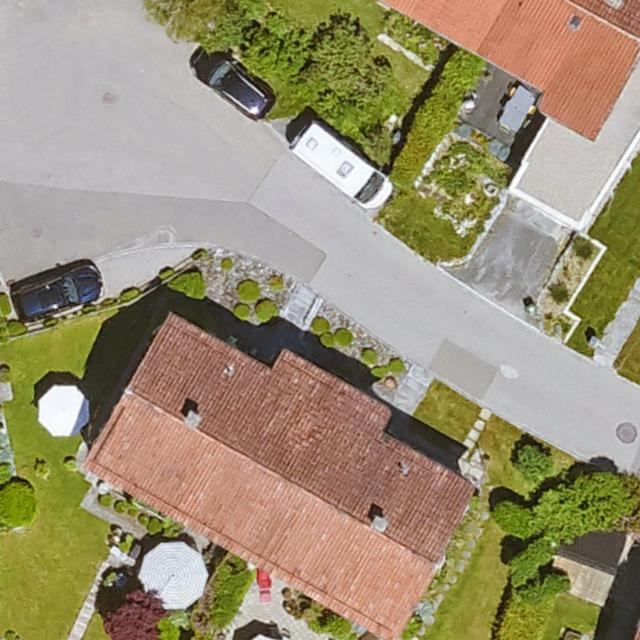tree: (577, 468, 637, 527), (495, 496, 547, 540), (514, 535, 560, 583), (539, 489, 588, 534), (518, 442, 556, 483)
